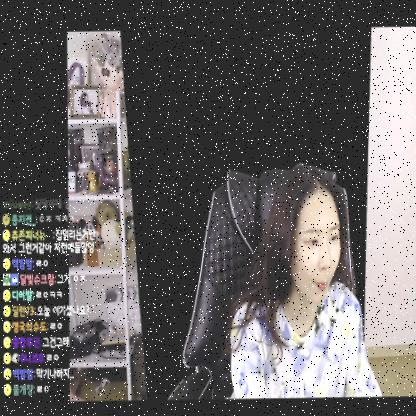streamer: (228, 163, 380, 399)
